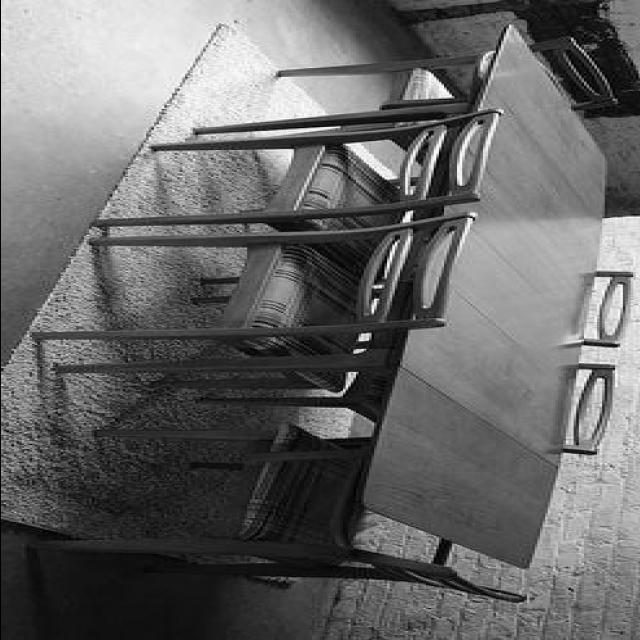chair: (39, 424, 528, 604), (29, 211, 478, 393), (92, 108, 506, 286), (275, 33, 613, 188)
table: (60, 25, 614, 568)
